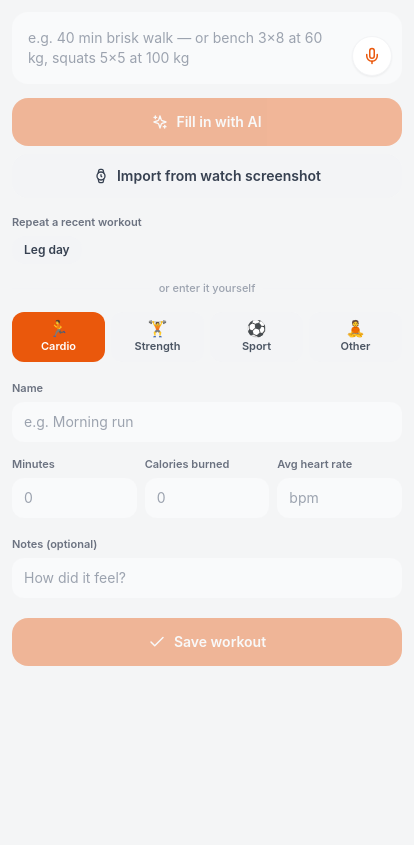
Test case: WorkoutForm › repeats a recent workout with its sets
What coordinates should you click on to do the following:
click the button "Leg day"
I would click on:
 (47, 250)
Its box is left=12, top=236, right=82, bottom=264.
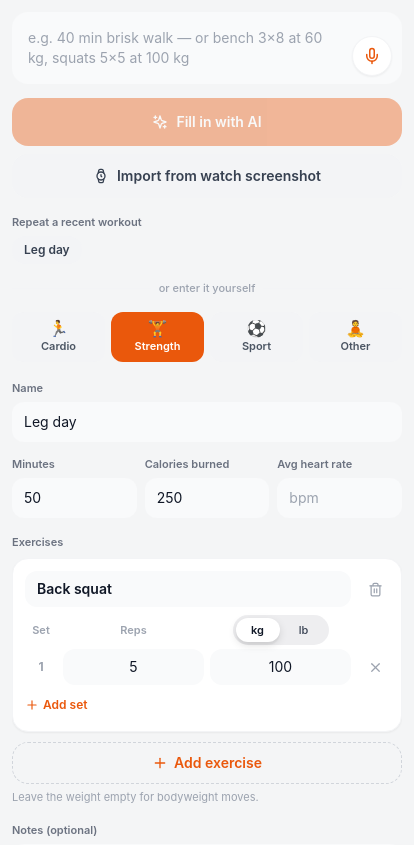
Now the field showing "Back squat" is shown, box left=25, top=571, right=351, bottom=607
Now the field showing "100" is shown, box left=210, top=649, right=351, bottom=685
